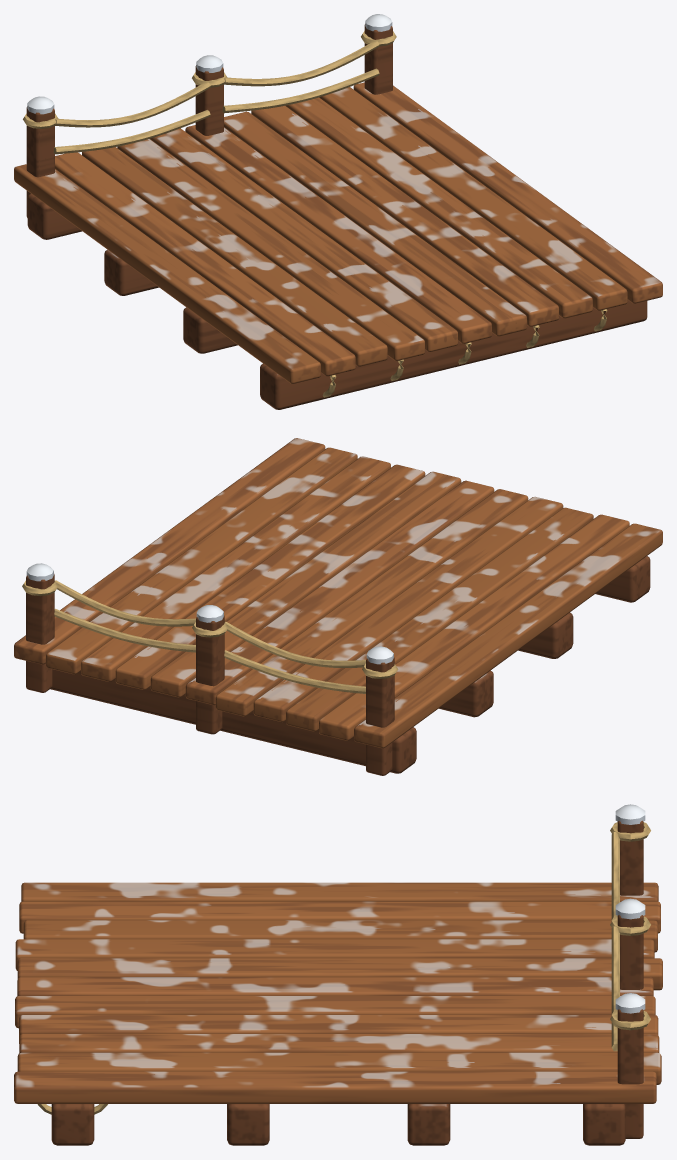
File: FP_T07_TimberBridgeDeck.fbx
The picture shows the model from 3 angles, top to bottom: view 1: azimuth 30°, elevation 25°; view 2: azimuth 150°, elevation 25°; view 3: azimuth 270°, elevation 25°; orthographic projection. The views are drawn at different scales.
Visible parts, largest first — view 1: Deck, Rails; view 2: Deck, Rails; view 3: Deck, Rails.
Part boxes in pixels (bbox=[...]): Deck: bbox=[14, 82, 662, 409]; Rails: bbox=[23, 14, 396, 217]; Deck: bbox=[14, 438, 662, 773]; Rails: bbox=[22, 563, 398, 775]; Deck: bbox=[14, 882, 662, 1145]; Rails: bbox=[610, 804, 650, 1138].
Bounding box in the file's own units: 3 × 0.96 × 3.96.
